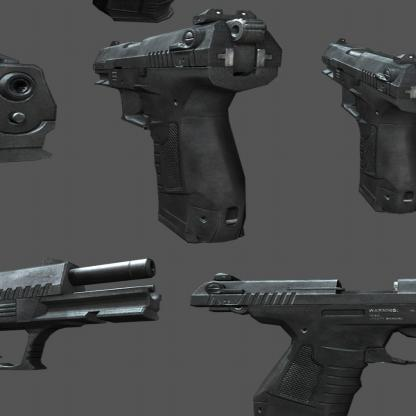gun: (90, 7, 278, 244), (192, 272, 415, 416), (0, 258, 161, 416), (319, 33, 415, 215), (0, 50, 53, 241), (17, 0, 402, 21)
